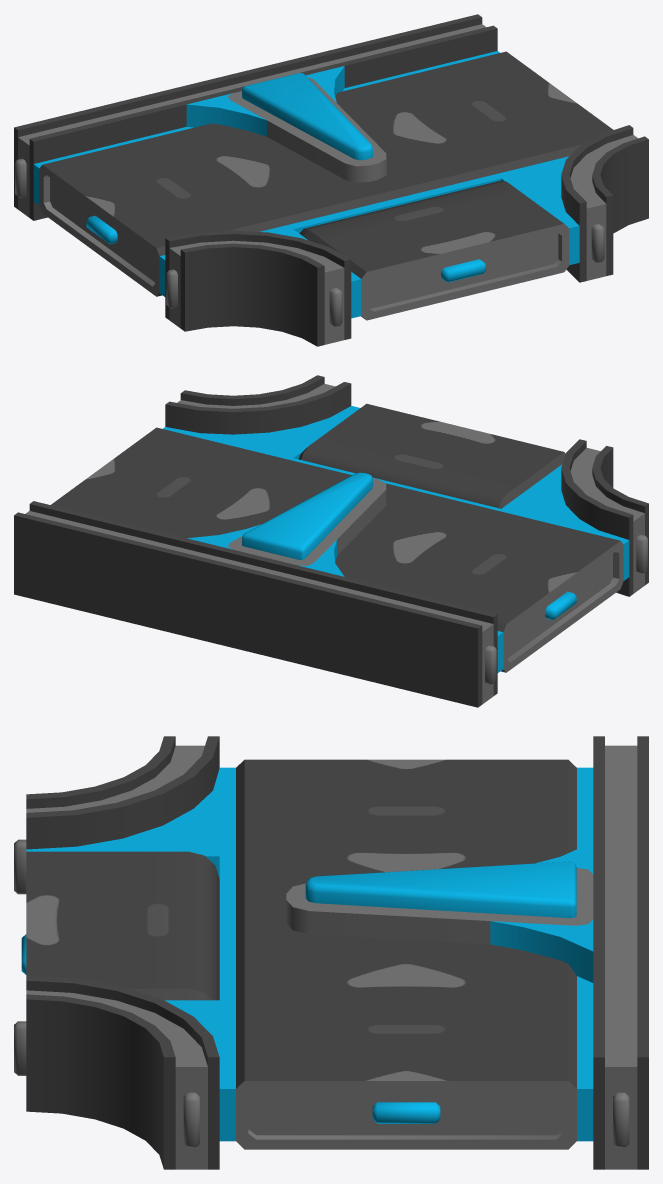
Rendered from Conveyor_Belt_2I1O.fbx.
The picture shows the model from 3 angles, top to bottom: view 1: azimuth 30°, elevation 25°; view 2: azimuth 150°, elevation 25°; view 3: azimuth 270°, elevation 25°; orthographic projection. The views are drawn at different scales.
Visible parts, largest first — view 1: Conveyor_Belt_2I1O; view 2: Conveyor_Belt_2I1O; view 3: Conveyor_Belt_2I1O.
Part boxes in pixels (x1,y1,x2,y2): Conveyor_Belt_2I1O: [14, 14, 648, 346]; Conveyor_Belt_2I1O: [14, 375, 648, 707]; Conveyor_Belt_2I1O: [14, 736, 648, 1169].
Bounding box in the file's own units: 207 × 37.38 × 167.
